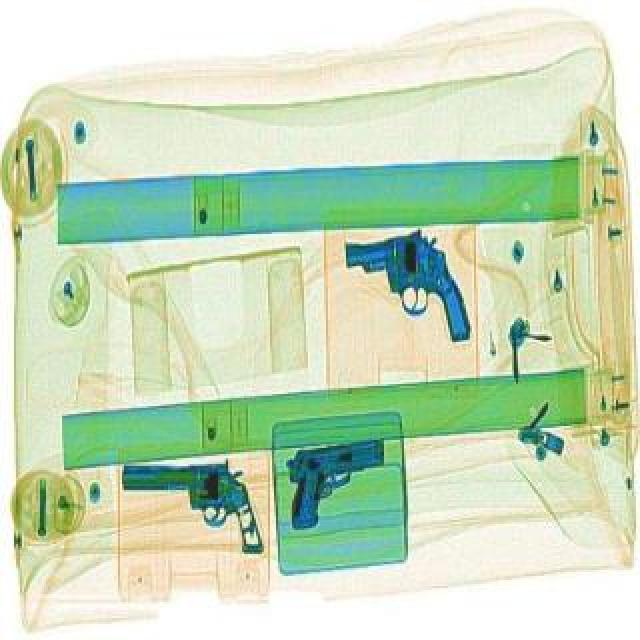gun: (340, 224, 472, 356), (120, 456, 264, 554), (276, 432, 392, 524)
